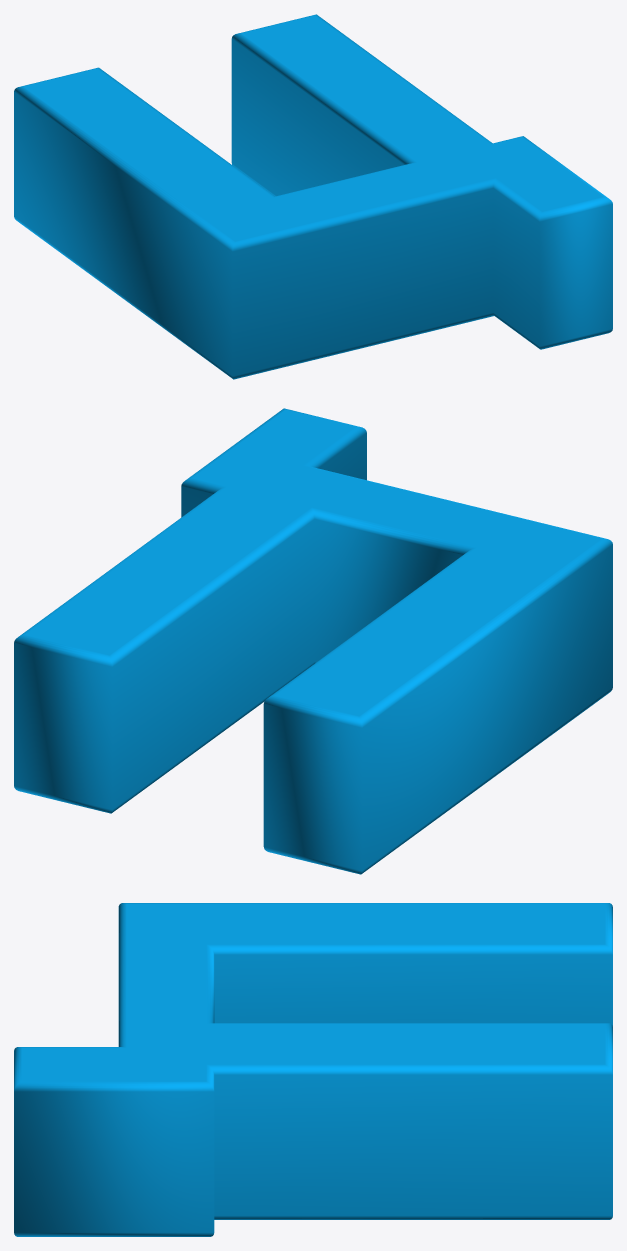
The picture shows the model from 3 angles, top to bottom: view 1: azimuth 30°, elevation 25°; view 2: azimuth 150°, elevation 25°; view 3: azimuth 270°, elevation 25°; orthographic projection. The views are drawn at different scales.
Visible parts, largest first — view 1: \u0446; view 2: \u0446; view 3: \u0446.
Part boxes in pixels (left/top/right/bottom): \u0446: left=14, top=14, right=612, bottom=379; \u0446: left=14, top=408, right=612, bottom=874; \u0446: left=14, top=903, right=612, bottom=1236.
Size of the model in its own units: 0.4551 by 0.178 by 0.6249.
